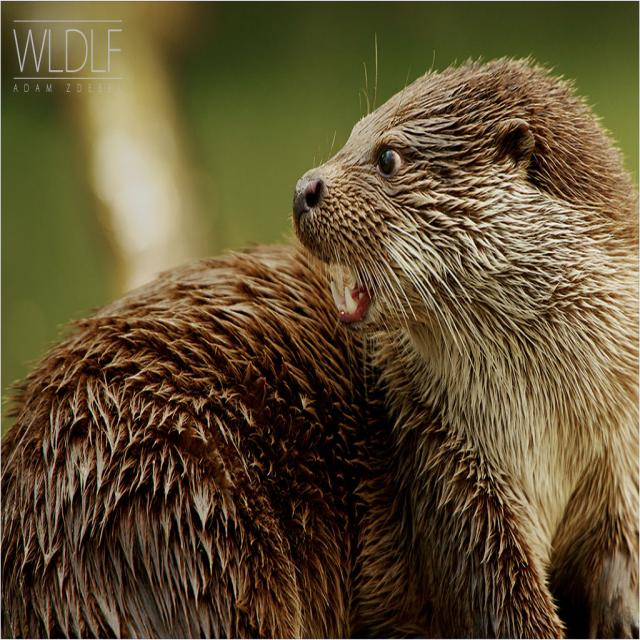otter: (1, 61, 640, 640)
